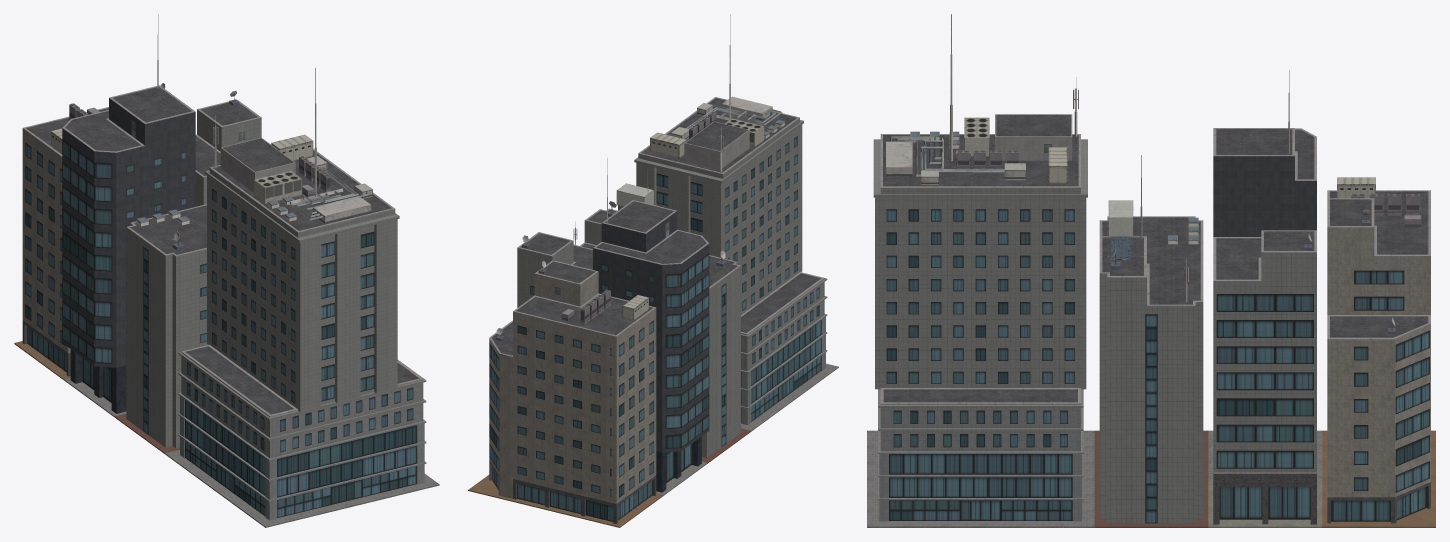
File: jctlowBldSetD.fbx
3 renders of one model, left to right at view 1: azimuth 30°, elevation 25°; view 2: azimuth 150°, elevation 25°; view 3: azimuth 270°, elevation 25°, orthographic. The views are drawn at different scales.
Visible parts, largest first — view 1: jctlowBldSetD; view 2: jctlowBldSetD; view 3: jctlowBldSetD.
Part boxes in pixels (left/top/right/bottom): jctlowBldSetD: left=14, top=14, right=439, bottom=527; jctlowBldSetD: left=468, top=14, right=838, bottom=527; jctlowBldSetD: left=867, top=14, right=1435, bottom=527.
Size of the model in its own units: 2555 by 5422 by 6000.
16 materials, 16 textured.
